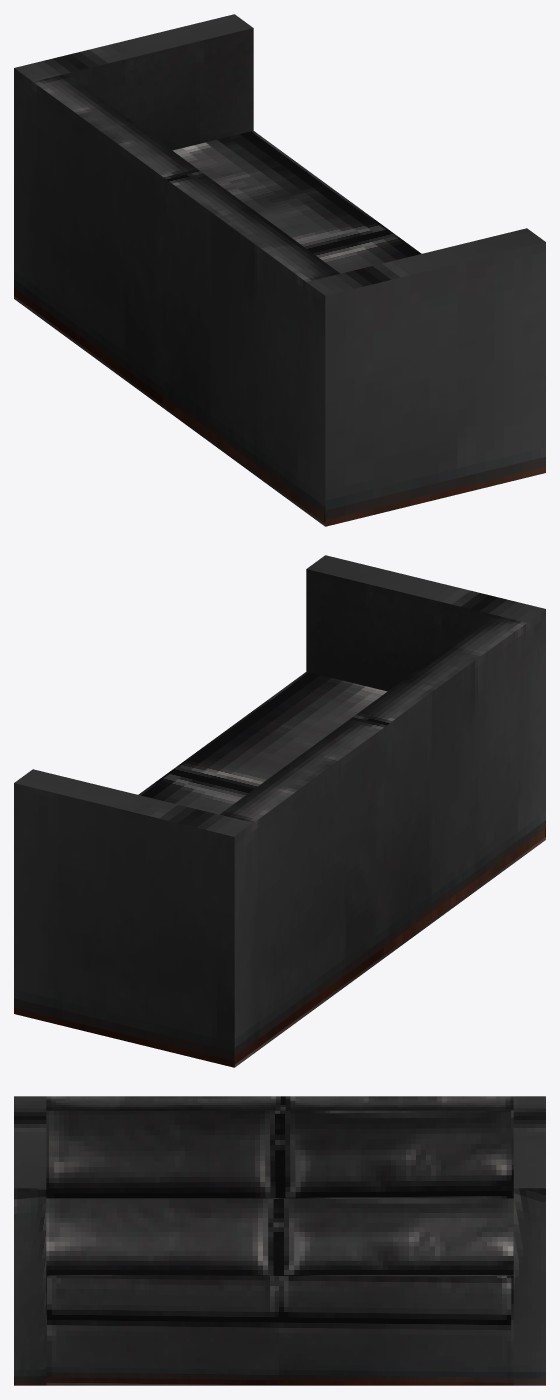
Rendered from couchLarge.fbx.
The picture shows the model from 3 angles, top to bottom: view 1: azimuth 30°, elevation 25°; view 2: azimuth 150°, elevation 25°; view 3: azimuth 270°, elevation 25°; orthographic projection. The views are drawn at different scales.
Visible parts, largest first — view 1: couchLarge; view 2: couchLarge; view 3: couchLarge.
Part boxes in pixels (x1=…): couchLarge: x1=14, y1=14, x2=545, y2=526; couchLarge: x1=14, y1=555, x2=545, y2=1067; couchLarge: x1=14, y1=1096, x2=545, y2=1385.
Bounding box in the file's own units: 90 × 90 × 220.
1 material, 1 textured.
